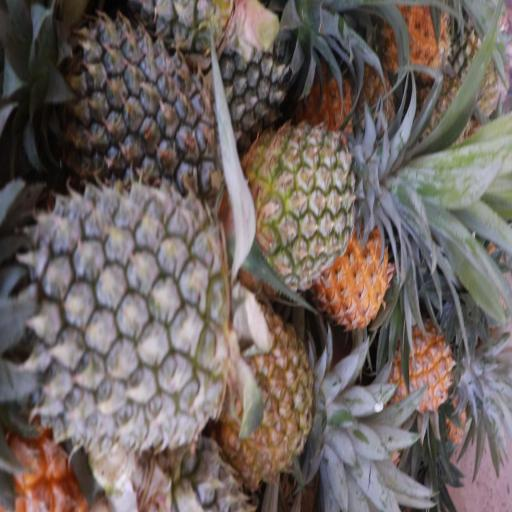------------------------------: (246, 121, 364, 281), (224, 311, 314, 467)
Pineapple - v8 v1: (322, 215, 391, 327), (386, 332, 456, 413)
